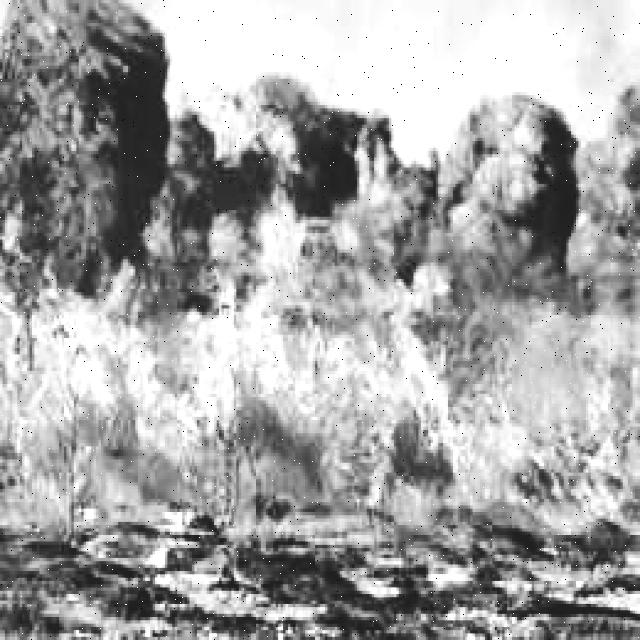api: (1, 224, 636, 510), (177, 49, 307, 181), (251, 190, 317, 288)
asap: (162, 73, 457, 295), (1, 1, 177, 300), (424, 75, 588, 319), (563, 55, 640, 331)
